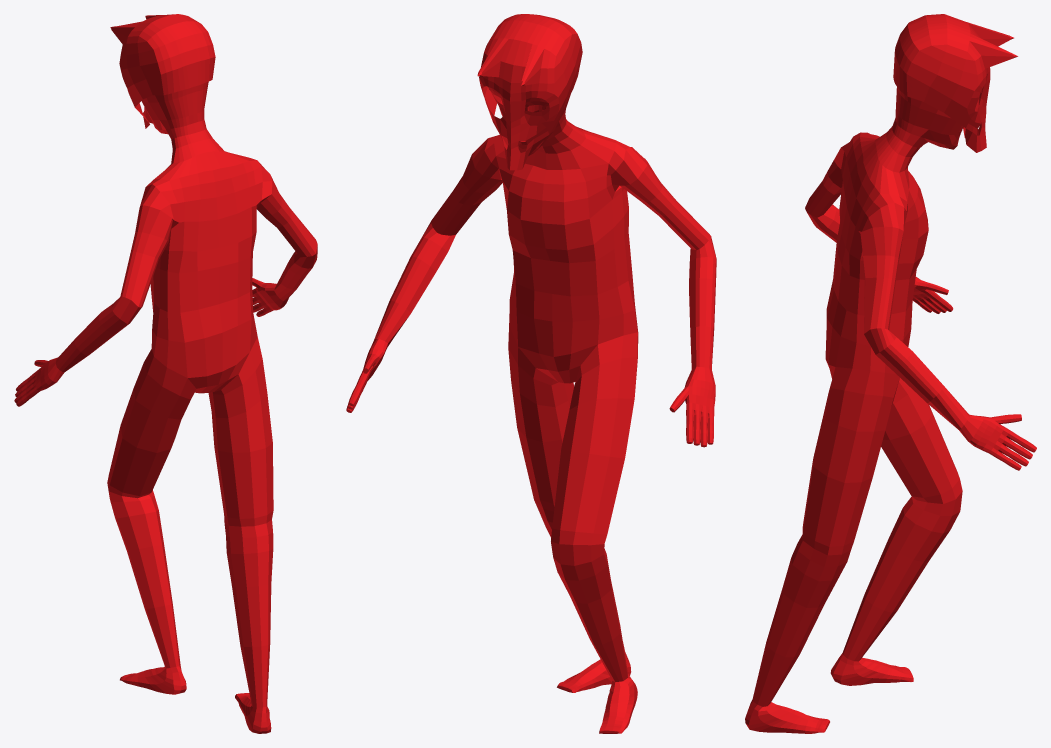
The model's file is marchaE_000033.obj.
3 views of the same model, side by side, from view 1: azimuth 30°, elevation 25°; view 2: azimuth 150°, elevation 25°; view 3: azimuth 270°, elevation 25° (orthographic). The views are drawn at different scales.
Parts seen in each view (by area): view 1: Plane.002_Plane.001; view 2: Plane.002_Plane.001; view 3: Plane.002_Plane.001.
Part boxes in pixels (bbox=[...]): Plane.002_Plane.001: bbox=[14, 14, 317, 733]; Plane.002_Plane.001: bbox=[346, 14, 716, 733]; Plane.002_Plane.001: bbox=[745, 14, 1036, 733].
Size of the model in its own units: 3.18 by 6.86 by 2.58.
